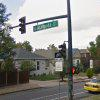Traffic light: (20, 7, 30, 42)
